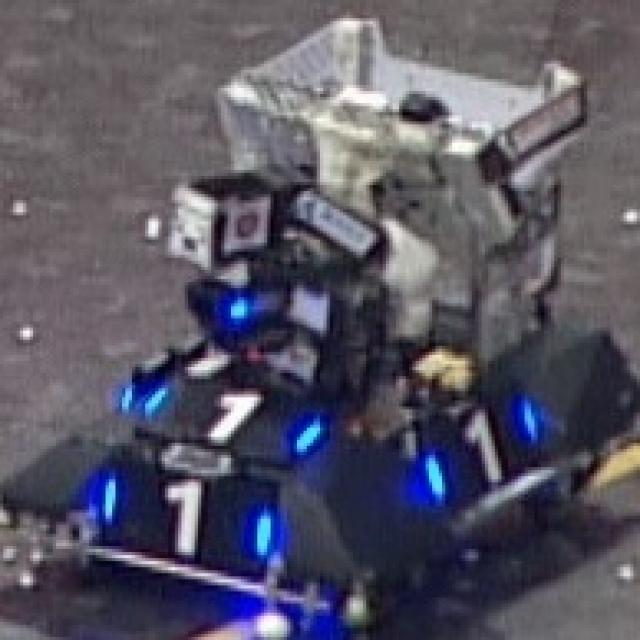B1: (138, 373, 330, 464), (96, 473, 280, 564), (416, 403, 544, 498)
